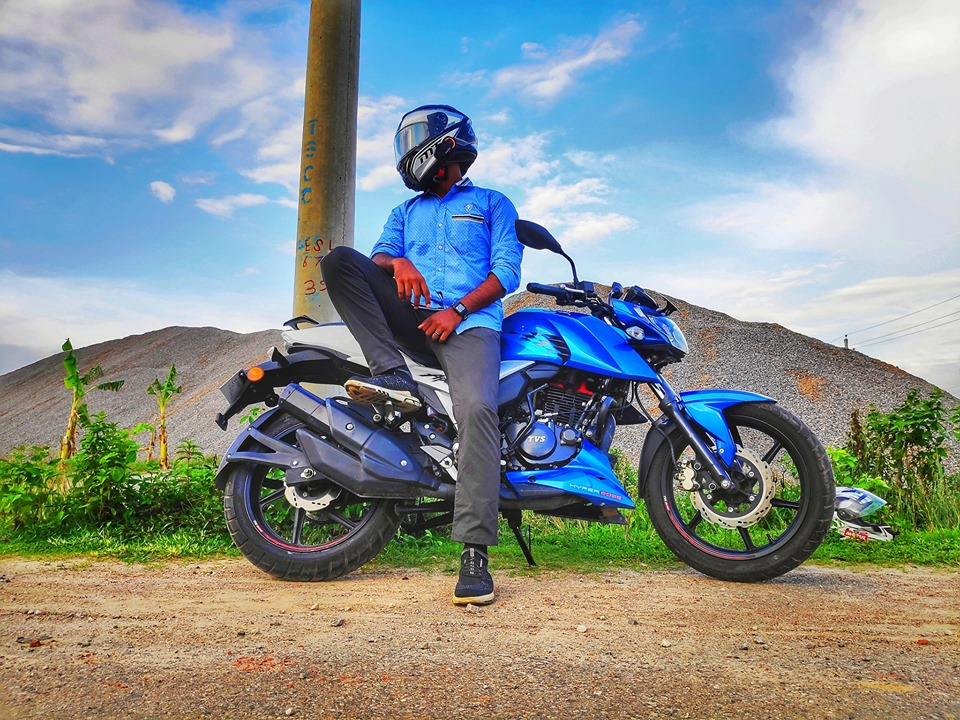bike: (212, 219, 836, 587)
